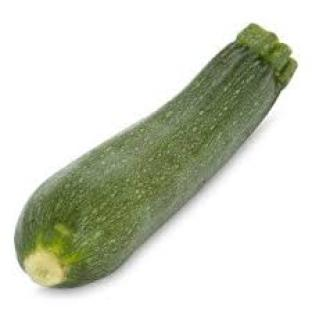Zucchini: (16, 25, 296, 287)
